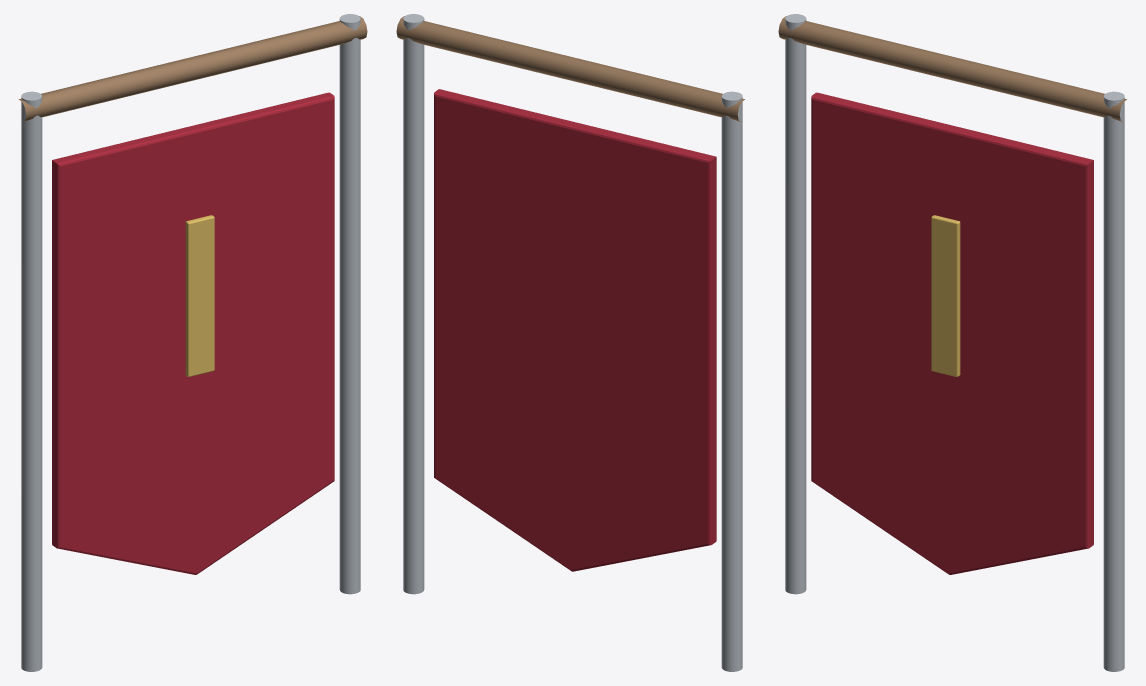
File: arena-shooter-map-kit-banner-31542f76.glb
3 views of the same model, side by side, from view 1: azimuth 30°, elevation 25°; view 2: azimuth 150°, elevation 25°; view 3: azimuth 330°, elevation 25° (orthographic).
Visible parts, largest first — view 1: banner; view 2: banner; view 3: banner.
Part boxes in pixels (x1,y1,x2,y2): banner: (19,14,367,671); banner: (396,14,744,671); banner: (778,14,1126,671).
Size of the model in its own units: 1.5 by 2.4 by 0.1275.
